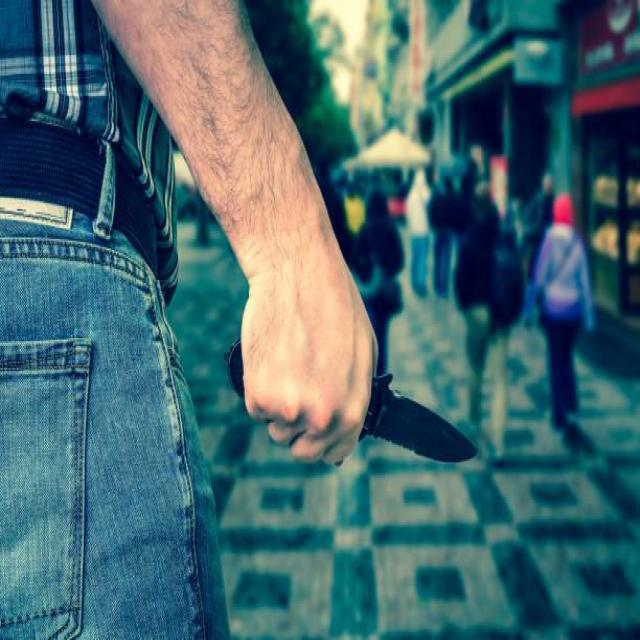faca: (204, 227, 496, 492)
